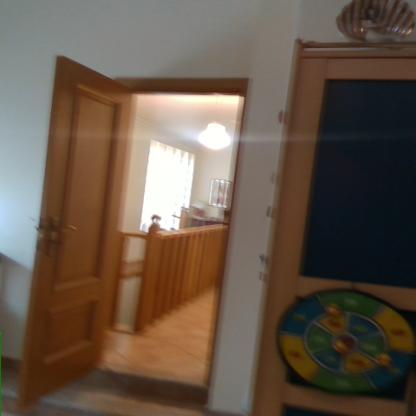open: (32, 49, 264, 406)
